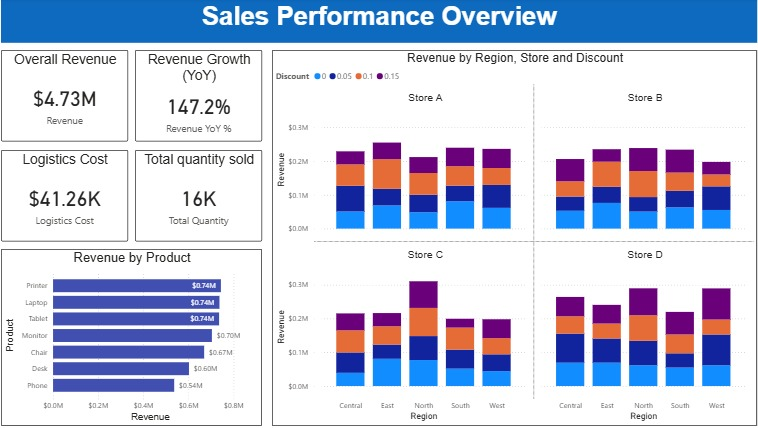

This screenshot's page, from the dashboard's own definition file:
{"tool":"powerbi","page":{"name":"Page 1","canvas":[1280,720],"ordinal":0},"visuals":[{"type":"textbox","box":[9.9,0,1248.6,74.3],"z":0},{"type":"card","title":"Overall Revenue","fields":{"Values":["production and sales analysis.Revenue"]},"box":[10.1,85.7,210,151.2],"z":1000},{"type":"card","title":"Logistics Cost","fields":{"Values":["production and sales analysis.Logistics Cost"]},"box":[10.1,250.3,210,151.2],"z":2000},{"type":"card","title":"Total quantity sold","fields":{"Values":["production and sales analysis.Total Quantity"]},"box":[231.8,250.3,210,151.2],"z":3000},{"type":"card","title":"Revenue Growth (YoY)","fields":{"Values":["production and sales analysis.Revenue YoY %"]},"box":[231.8,85.7,210,151.2],"z":4000},{"type":"lineStackedColumnComboChart","title":"Revenue by Region, Store and Discount","fields":{"Rows":["production and sales analysis.StoreLocation"],"Series":["production and sales analysis.Discount"],"Y":["production and sales analysis.Revenue"],"Category":["production and sales analysis.Region"]},"box":[457.5,85.9,801,621],"z":5000},{"type":"clusteredBarChart","fields":{"Y":["production and sales analysis.Revenue"],"Category":["production and sales analysis.Product"]},"box":[9.9,414.6,431.1,292.3],"z":6000}]}

Visuals, with their boxes in screenshot pixels (x1, y1, x2, y2), scaled from the page's 1280x720 canvas onto the 758x428 screenshot:
textbox: <bbox>6, 0, 745, 44</bbox>
"Overall Revenue" card: <bbox>6, 51, 130, 141</bbox>
"Logistics Cost" card: <bbox>6, 149, 130, 239</bbox>
"Total quantity sold" card: <bbox>137, 149, 262, 239</bbox>
"Revenue Growth (YoY)" card: <bbox>137, 51, 262, 141</bbox>
"Revenue by Region, Store and Discount" lineStackedColumnComboChart: <bbox>271, 51, 745, 420</bbox>
clusteredBarChart - production and sales analysis.Revenue x production and sales analysis.Product: <bbox>6, 246, 261, 420</bbox>
